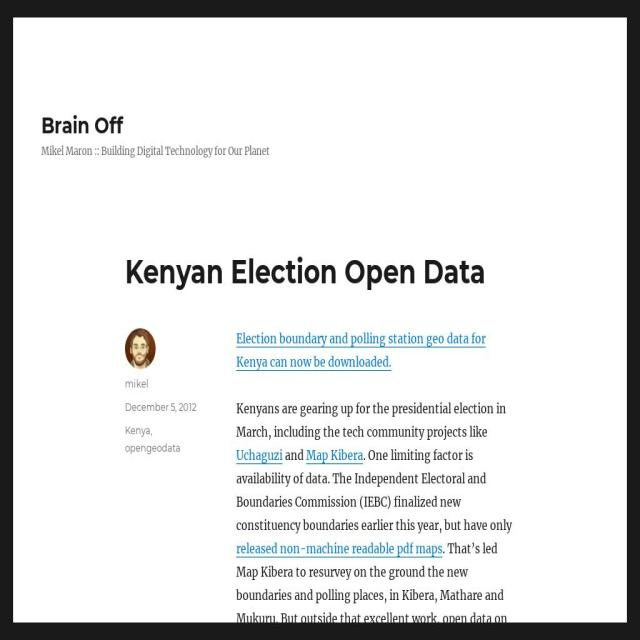button: (236, 330, 486, 370), (236, 540, 443, 557), (306, 447, 364, 463), (236, 447, 283, 463)
heading: (124, 250, 486, 292), (41, 111, 123, 139)
image: (124, 328, 156, 369)
link: (125, 400, 197, 413), (124, 441, 180, 454), (124, 423, 150, 437), (124, 377, 149, 390)
text: (236, 540, 508, 640), (237, 447, 512, 533), (236, 400, 507, 440), (41, 146, 270, 157), (282, 447, 307, 463), (150, 423, 152, 437)
